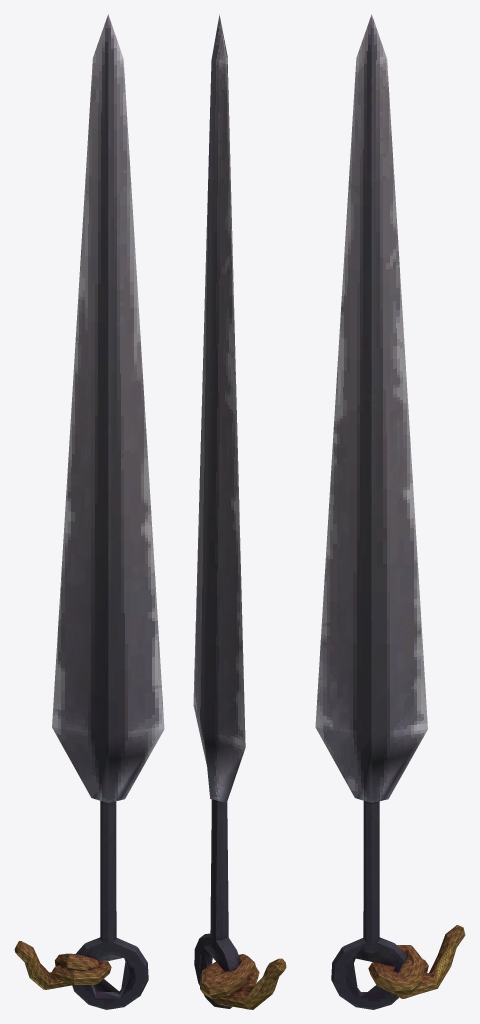
Rendered from item_needle.glb.
3 views of the same model, side by side, from view 1: azimuth 90°, elevation 25°; view 2: azimuth 210°, elevation 25°; view 3: azimuth 270°, elevation 25° (orthographic).
Parts seen in each view (by area): view 1: Needle; view 2: Needle; view 3: Needle.
Boxes of the visible parts, left/top/right/bottom form: Needle: left=14, top=14, right=164, bottom=1009; Needle: left=193, top=14, right=286, bottom=1009; Needle: left=315, top=14, right=465, bottom=1009.
Bounding box in the file's own units: 0.0928 × 1.63 × 0.2225.
Materials: 1 (1 with a texture image).
